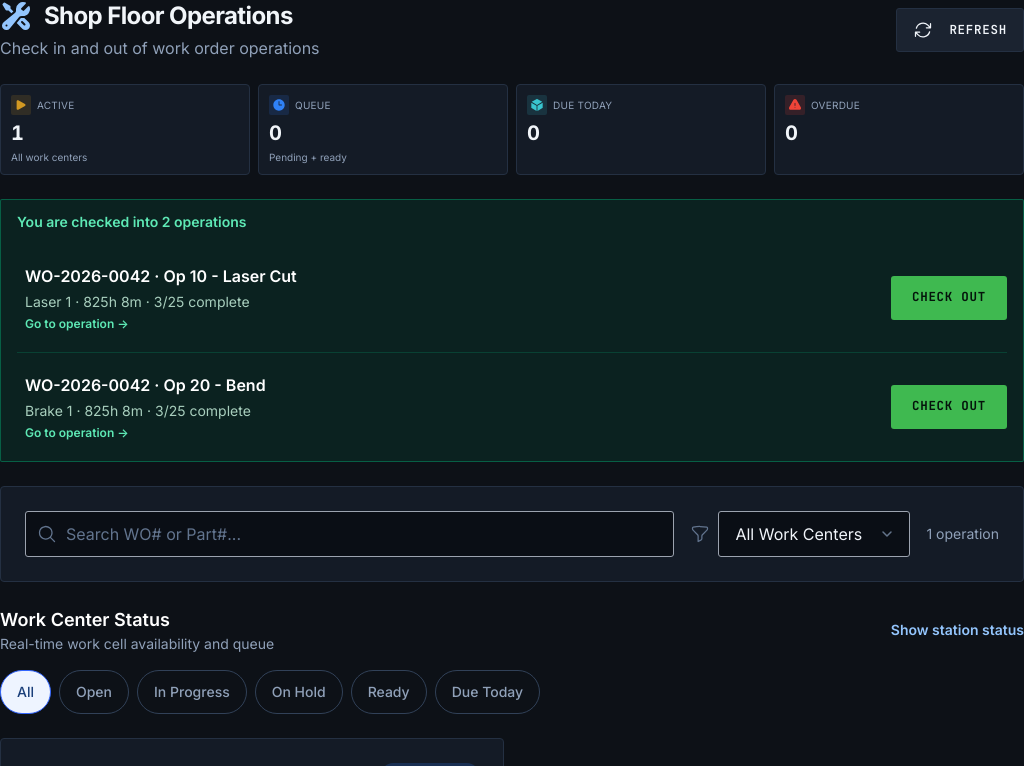
Test case: checked-in operation shortcuts › explains when a checked-in operation is no longer returned by the queue
Click the button with aria-label "Go to WO-2026-0042, Op 20 - Bend" at [88, 384], box [17,364,879,448]
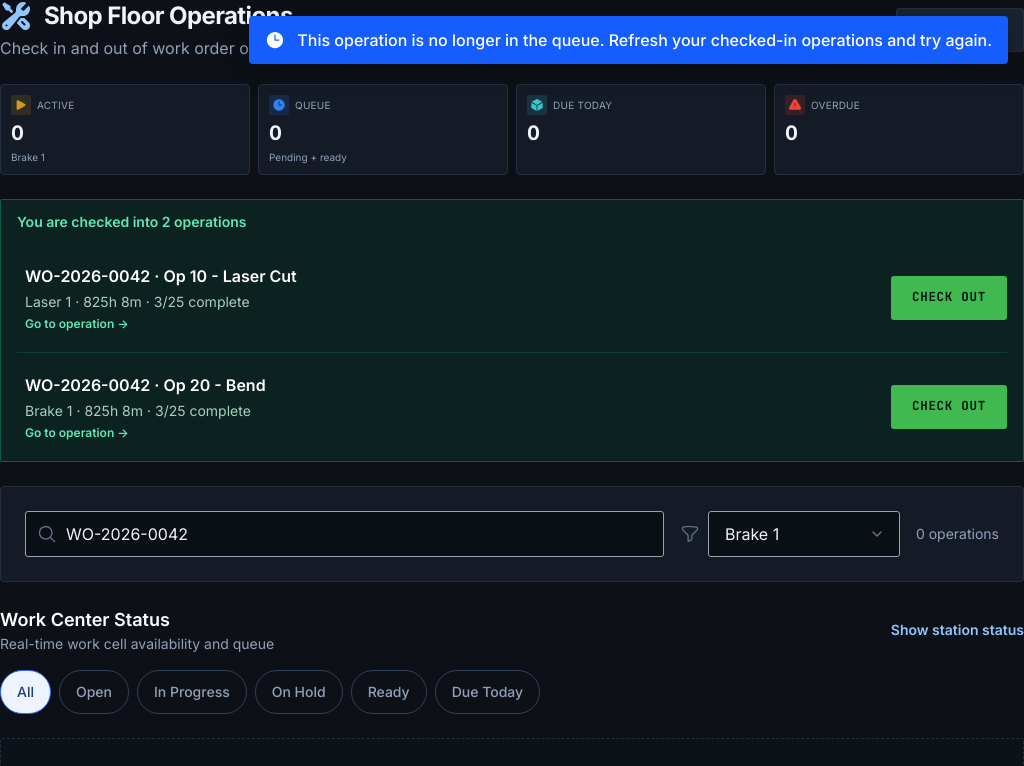
Result: the text "This operation is no longer in the queue. Refresh your checked-in operations and try again." is shown at [297,30,992,50]
